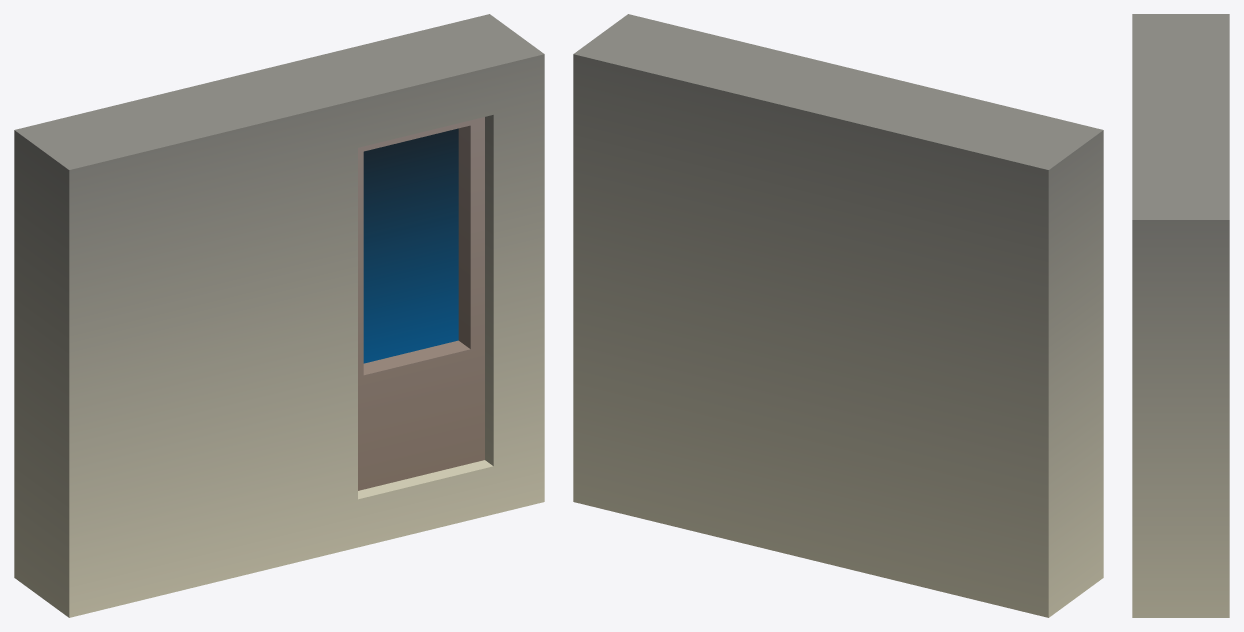
Rendered from B02_fenetre_6.fbx.
3 renders of one model, left to right at view 1: azimuth 30°, elevation 25°; view 2: azimuth 150°, elevation 25°; view 3: azimuth 270°, elevation 25°, orthographic. The views are drawn at different scales.
Visible parts, largest first — view 1: B02_fenetre_6; view 2: B02_fenetre_6; view 3: B02_fenetre_6.
Part boxes in pixels (box(x1,y1,x2,y2)): B02_fenetre_6: box(14, 14, 544, 617); B02_fenetre_6: box(573, 14, 1103, 617); B02_fenetre_6: box(1132, 14, 1229, 617).
Bounding box in the file's own units: 500 × 450 × 100.
